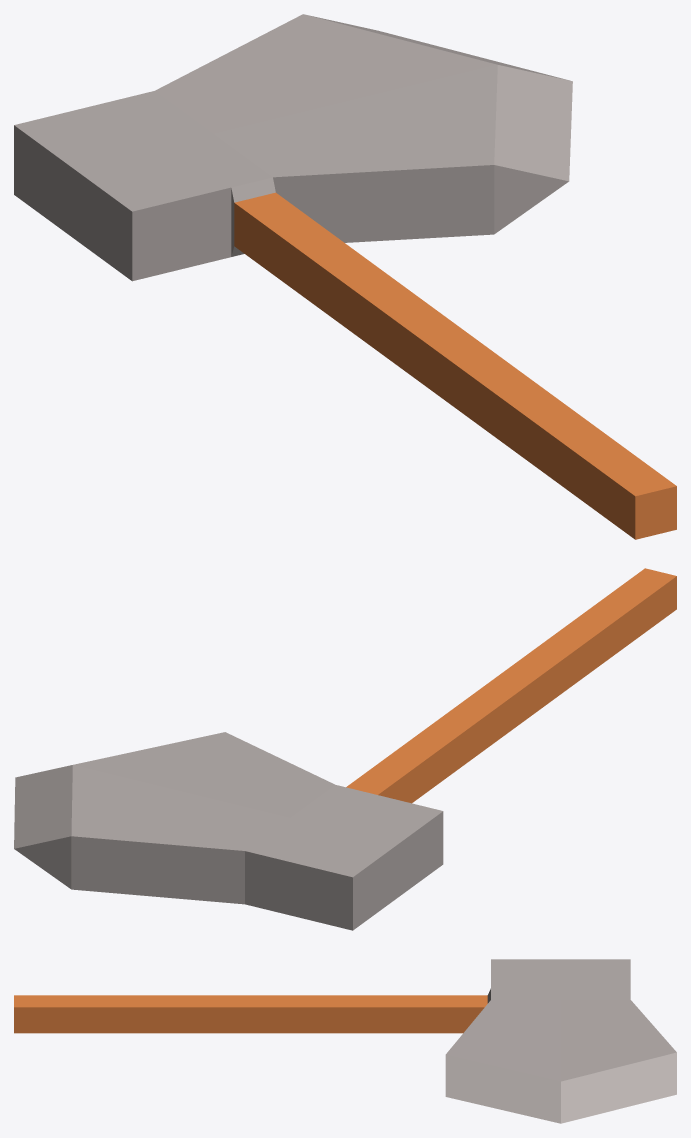
The model's file is steel_axe.glb.
3 renders of one model, top to bottom at view 1: azimuth 30°, elevation 25°; view 2: azimuth 150°, elevation 25°; view 3: azimuth 270°, elevation 25°, orthographic. The views are drawn at different scales.
Parts seen in each view (by area): view 1: Cube; view 2: Cube; view 3: Cube.
Boxes of the visible parts, left/top/right/bottom form: Cube: left=14, top=14, right=676, bottom=539; Cube: left=14, top=568, right=676, bottom=930; Cube: left=14, top=959, right=676, bottom=1123.
Bounding box in the file's own units: 7.32 × 1.06 × 14.25.
